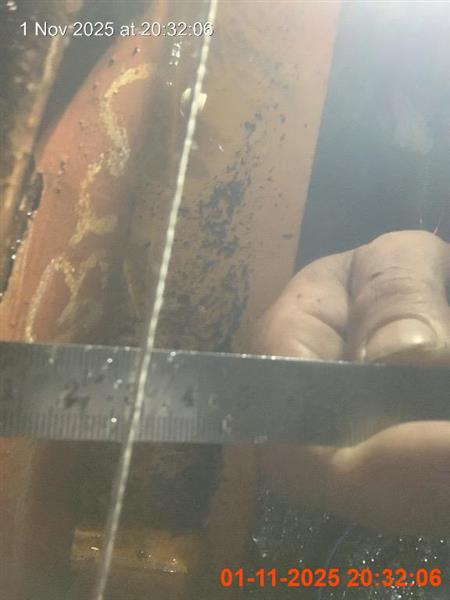dent: (202, 227, 449, 580), (0, 1, 170, 344)
